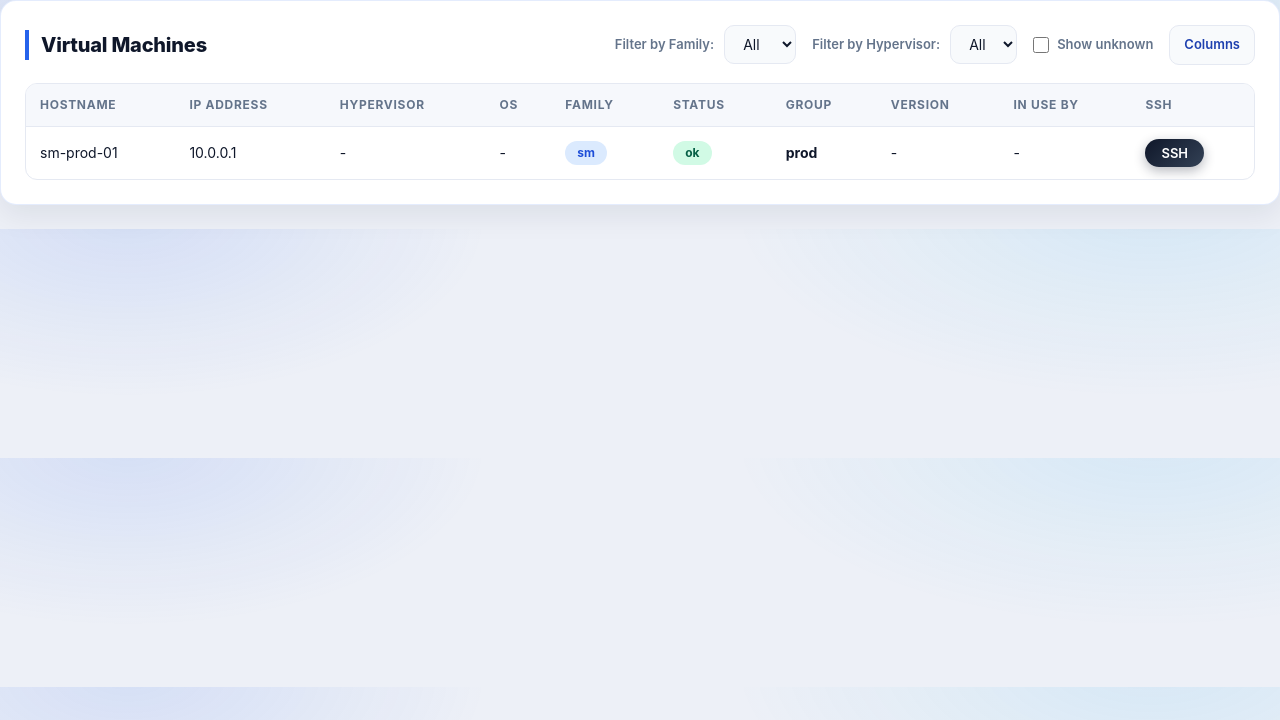
Test: VMTable › affiche le nom du groupe et copie la commande SSH
Expected: the text "prod" is shown, [786,144,817,161]
Click the button with aria-label "Copy SSH command" at [1175, 152], box [1146,138,1204,166]
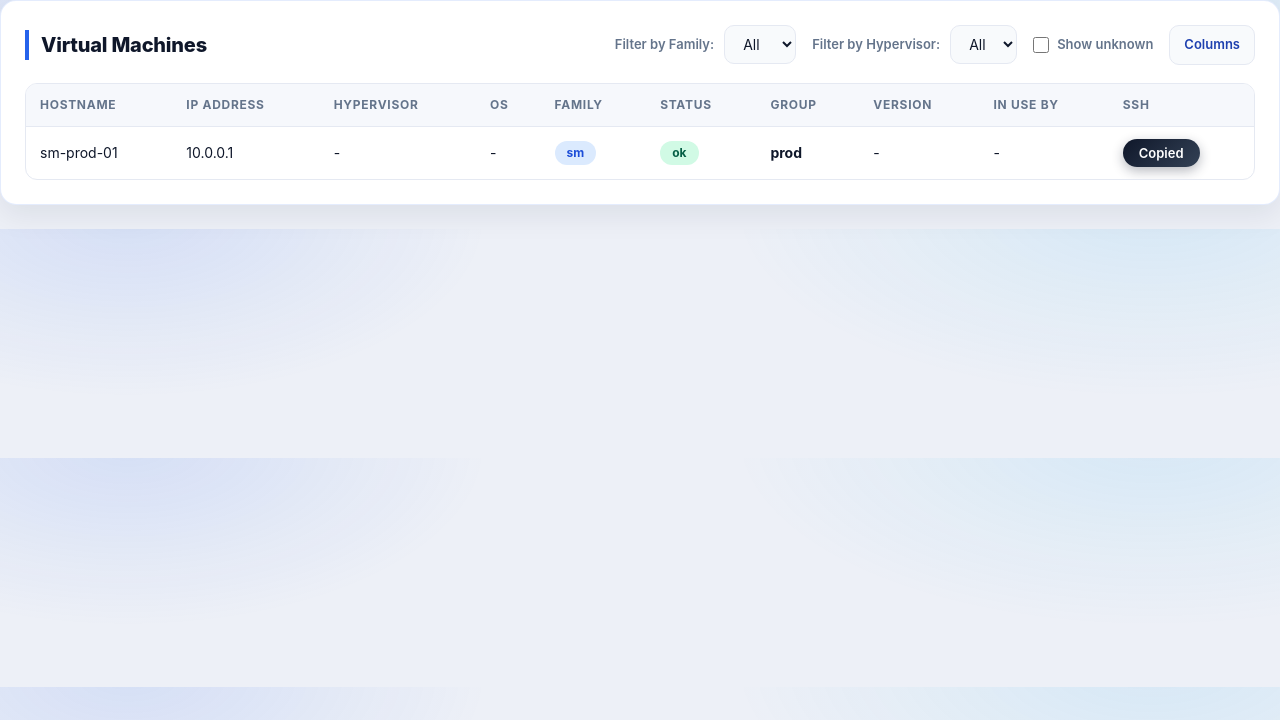
Result: the button "Copied" is shown at [1123,138,1200,166]
